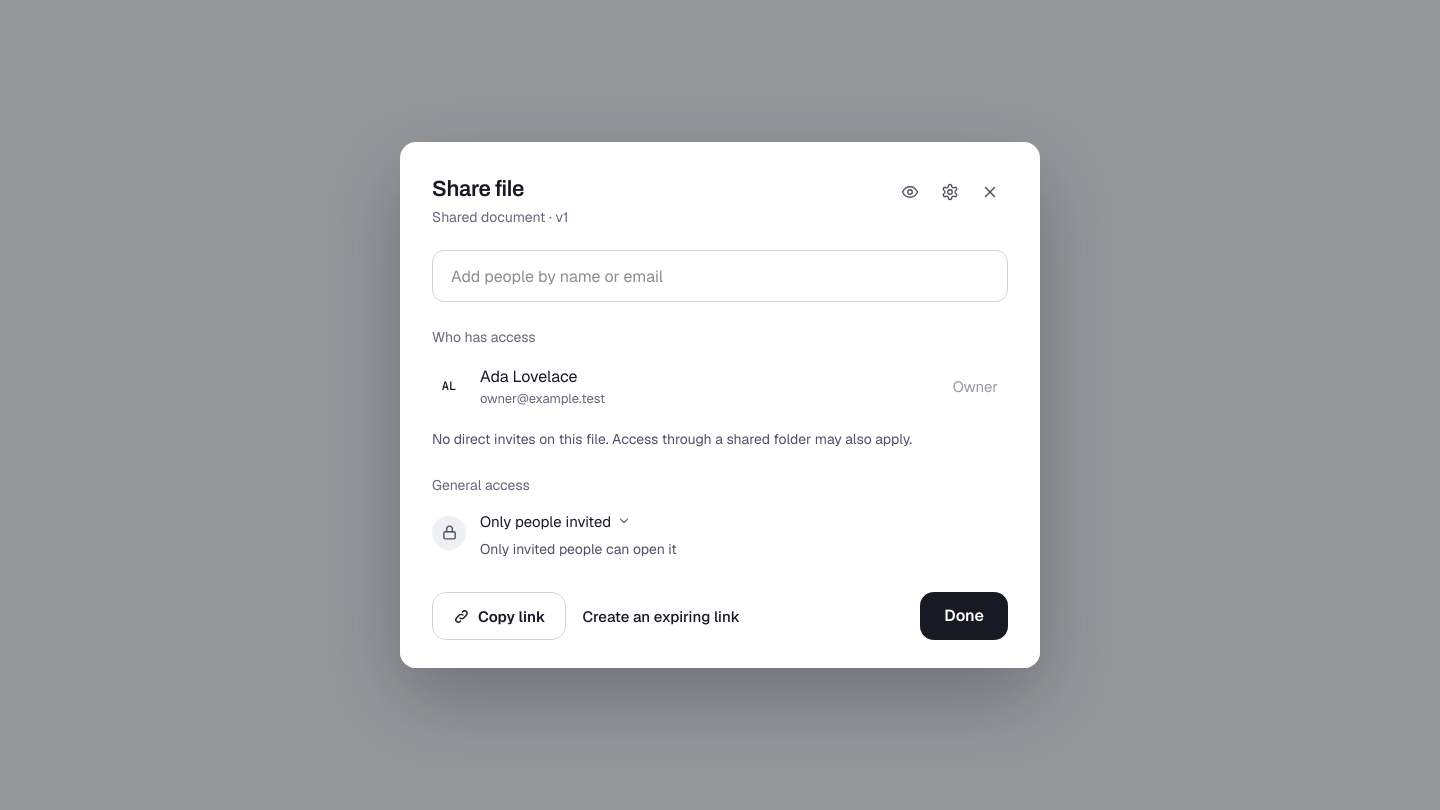
Test: ShareDialog › keeps Viewer activity behind a header button, and asks for it only once opened
Check: the text "Viewer activity" is not shown
Check: the text "opened" is not shown
Click the button named "Viewer activity": (910, 192) [892,174,928,210]
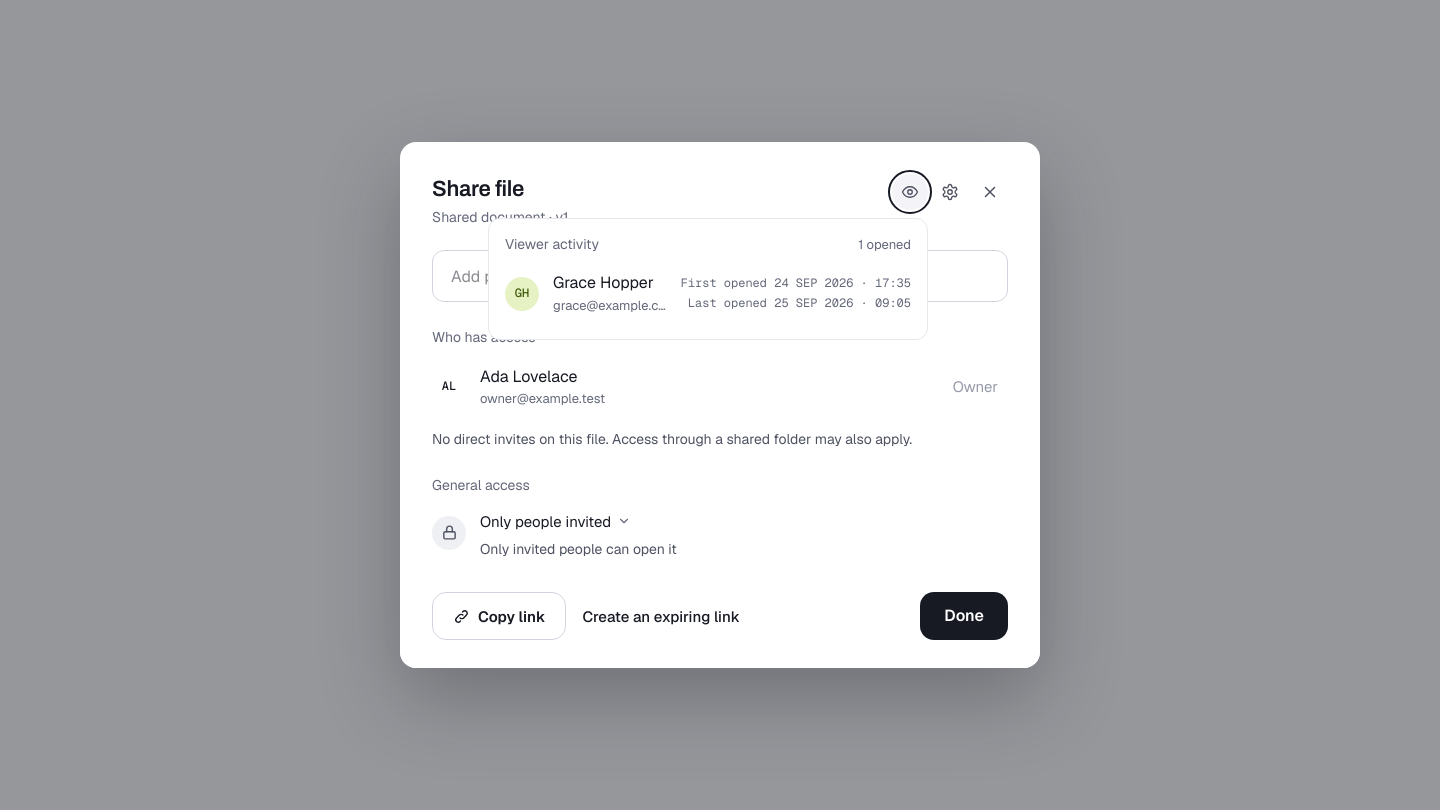
Check: the dialog "Viewer activity" shows "1 opened", box [488,218,928,340]
Check: the dialog "Viewer activity" shows "Grace Hopper", box [553,272,654,293]
Check: the dialog "Viewer activity" shows "First opened 24 SEP 2026 · 17:35", box [488,218,928,340]
